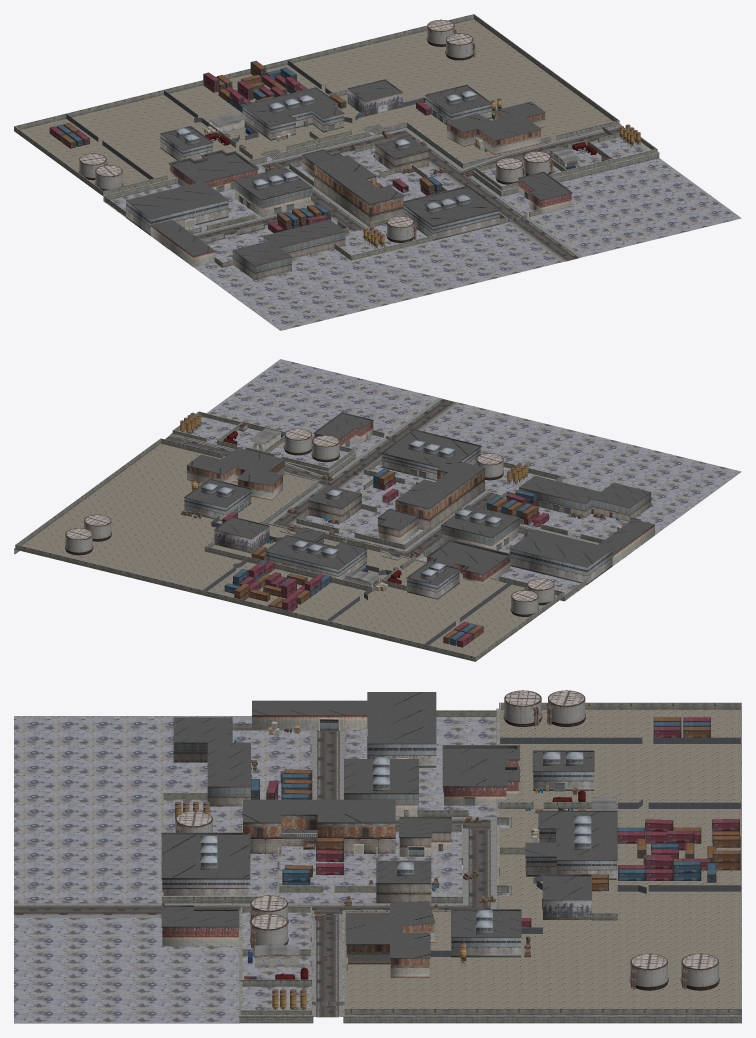
Rendered from Environment 5.fbx.
The picture shows the model from 3 angles, top to bottom: view 1: azimuth 30°, elevation 25°; view 2: azimuth 150°, elevation 25°; view 3: azimuth 270°, elevation 25°; orthographic projection. The views are drawn at different scales.
Visible parts, largest first — view 1: Plane_Ground Concrete _0, house, Circle.004_Atlas 2_0, Plane.003_Road_0, Plane.008_Atlas 1_0; view 2: Plane_Ground Concrete _0, house, Circle.004_Atlas 2_0, Plane.003_Road_0, Plane.008_Atlas 1_0; view 3: Plane_Ground Concrete _0, house, Plane.003_Road_0, Circle.004_Atlas 2_0, Plane.008_Atlas 1_0, Oil_tank_v2.003_Atlas 2_0.
Boxes of the visible parts, left/top/right/bottom form: Plane_Ground Concrete _0: left=14, top=14, right=741, bottom=330; house: left=126, top=79, right=580, bottom=280; Circle.004_Atlas 2_0: left=78, top=19, right=553, bottom=242; Plane.003_Road_0: left=162, top=127, right=625, bottom=261; Plane.008_Atlas 1_0: left=192, top=125, right=621, bottom=262; Plane_Ground Concrete _0: left=14, top=359, right=741, bottom=661; house: left=184, top=412, right=654, bottom=599; Circle.004_Atlas 2_0: left=65, top=428, right=554, bottom=616; Plane.003_Road_0: left=165, top=399, right=630, bottom=558; Plane.008_Atlas 1_0: left=170, top=398, right=599, bottom=559; Plane_Ground Concrete _0: left=14, top=702, right=741, bottom=1023; house: left=161, top=692, right=617, bottom=977; Plane.003_Road_0: left=14, top=730, right=490, bottom=1017; Circle.004_Atlas 2_0: left=175, top=690, right=719, bottom=990; Plane.008_Atlas 1_0: left=14, top=730, right=497, bottom=1016; Oil_tank_v2.003_Atlas 2_0: left=272, top=989, right=306, bottom=1009.
Bounding box in the file's own units: 20000 × 1098 × 20002.
11 materials, 11 textured.
